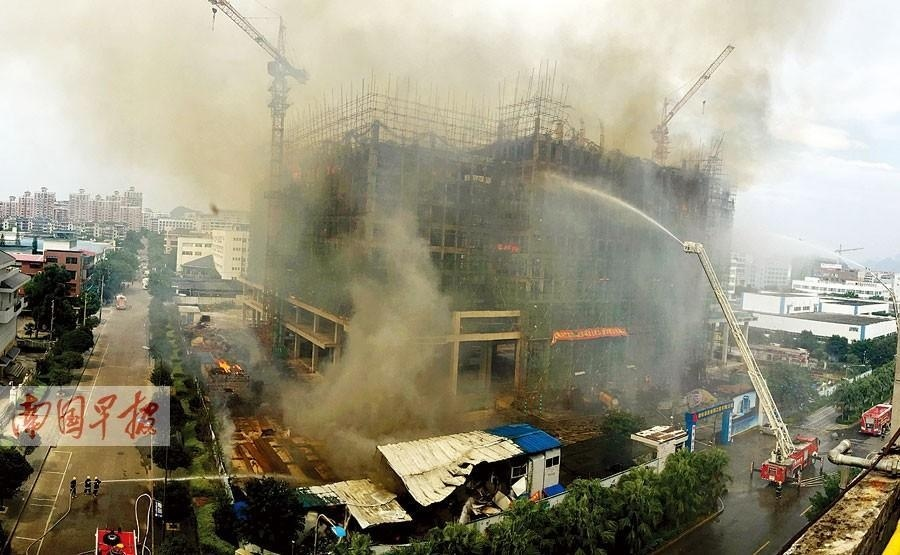fire: (215, 356, 242, 374)
